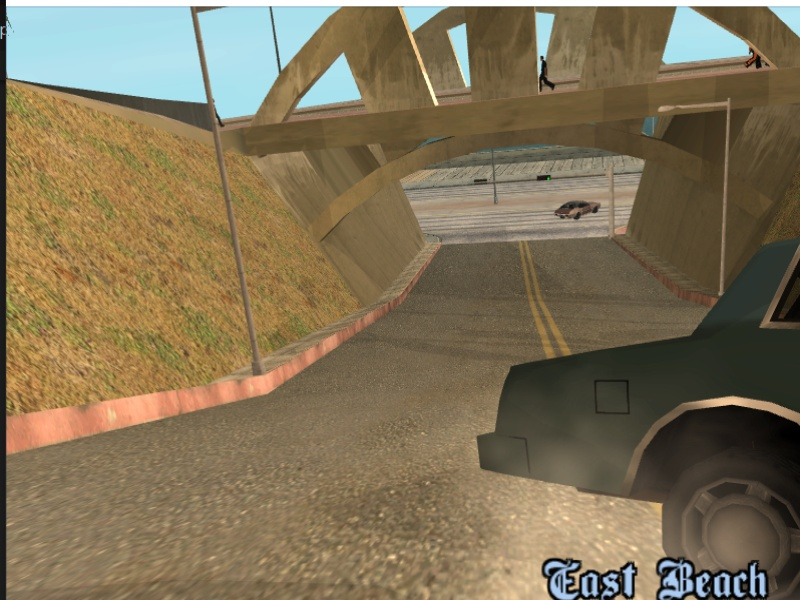person: (536, 56, 557, 94)
pole: (185, 9, 269, 375), (721, 101, 736, 302), (603, 163, 623, 240), (485, 146, 504, 203)
vehicle: (555, 199, 600, 222)
